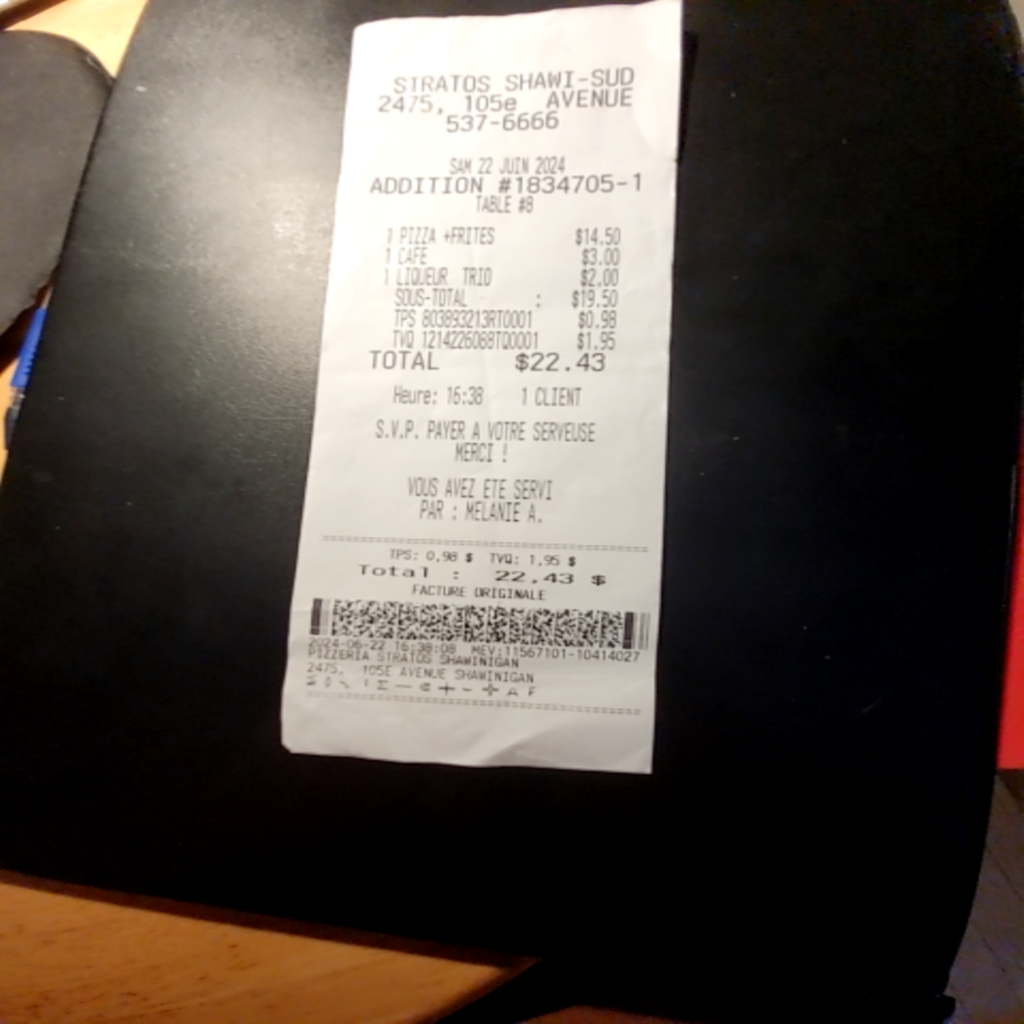recipt: (281, 6, 686, 778)
